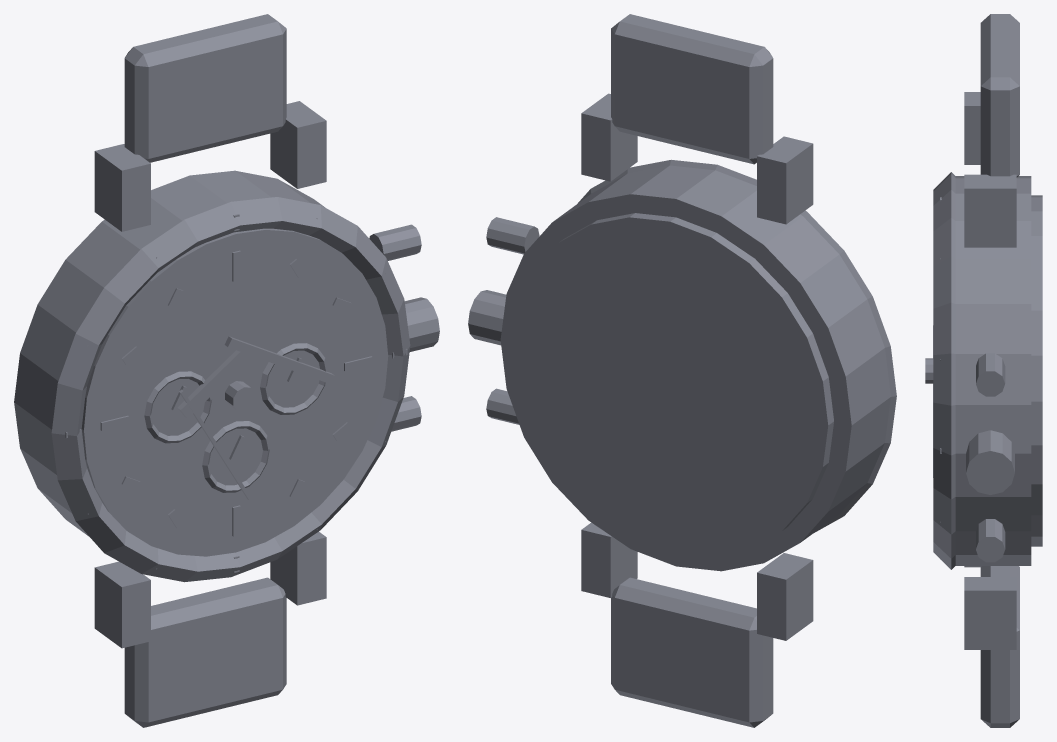
File: rlj_lunamaster.fbx
3 views of the same model, side by side, from view 1: azimuth 30°, elevation 25°; view 2: azimuth 150°, elevation 25°; view 3: azimuth 270°, elevation 25° (orthographic). The views are drawn at different scales.
Visible parts, largest first — view 1: Esfera__esmalte_negro, Caja__esmalte_negro, Caja__metal_acero, Esfera__metal_acero, Manecillas__esmalte_blanco, Esfera__esmalte_blanco; view 2: Caja__metal_acero, Caja__esmalte_negro; view 3: Caja__metal_acero, Caja__esmalte_negro, Manecillas__esmalte_blanco.
Part boxes in pixels (<box>): Esfera__esmalte_negro: <box>81,228,388,556</box>; Caja__esmalte_negro: <box>51,14,410,727</box>; Caja__metal_acero: <box>14,101,439,648</box>; Esfera__metal_acero: <box>144,343,327,492</box>; Manecillas__esmalte_blanco: <box>177,336,334,418</box>; Esfera__esmalte_blanco: <box>100,250,372,536</box>; Caja__metal_acero: <box>468,93,890,640</box>; Caja__esmalte_negro: <box>577,14,896,727</box>; Caja__metal_acero: <box>955,92,1042,649</box>; Caja__esmalte_negro: <box>933,14,1019,727</box>; Manecillas__esmalte_blanco: <box>925,358,933,383</box>.
Size of the model in its own units: 135 by 220 by 36.
